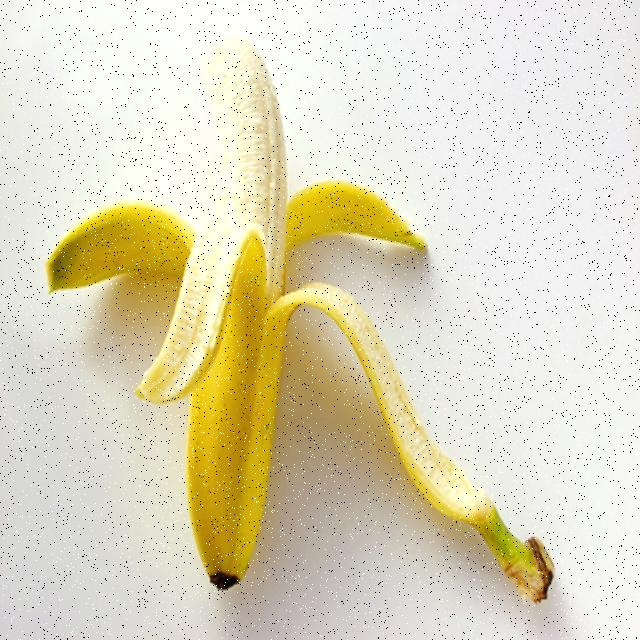Banana: (29, 31, 574, 606)
